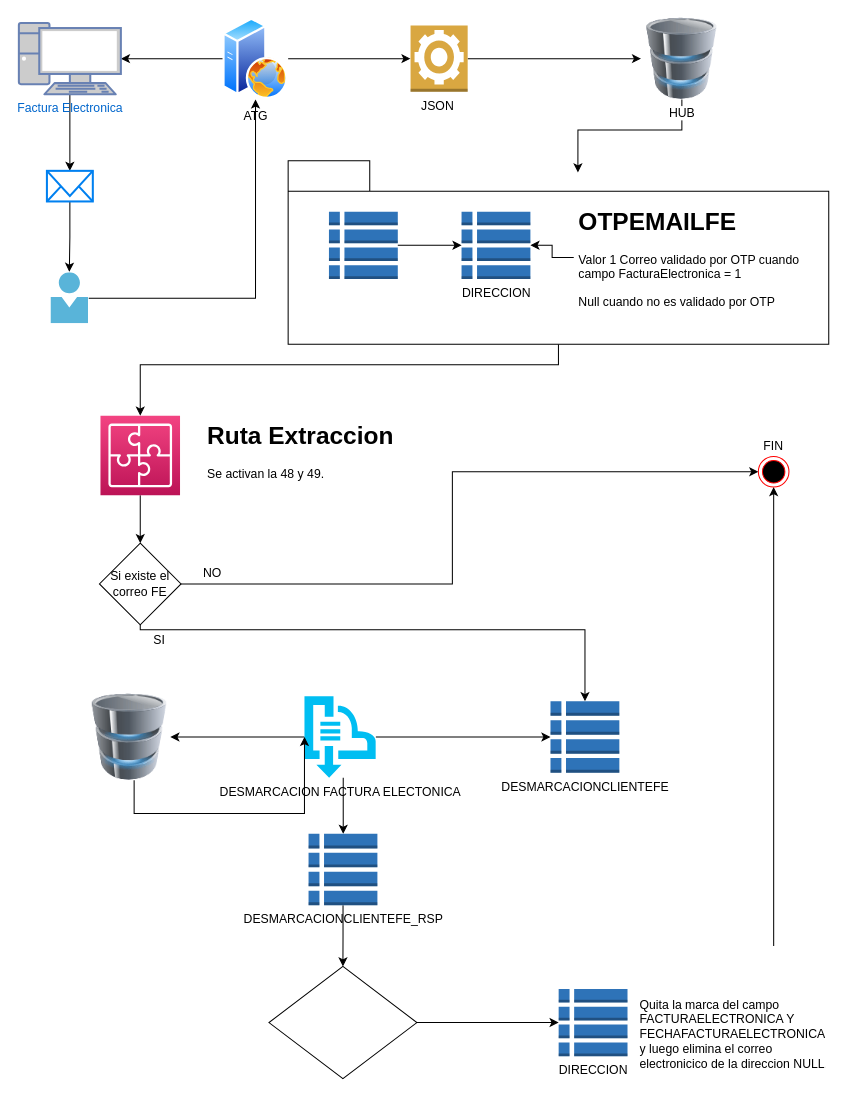
The diagram is 847 pixels wide and 1097 high, and some of its shapes have lost their labels. Here are the shapes that lost their labels. From the top down, the centre of each, then its label:
At point 69,185: "OTP".
At point 363,245: "CLIENTE".
At point 139,455: "HUBDATOS".
At point 129,736: "CM".
At point 342,1022: "Si el registro esta con IDESTADO = 2".
